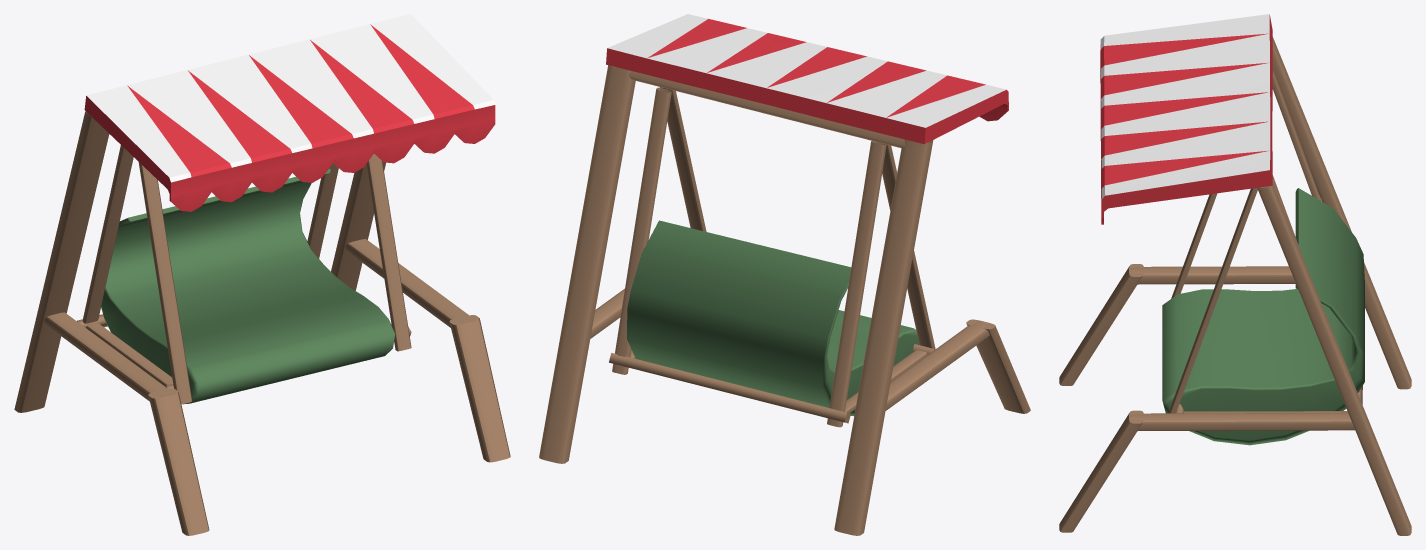
Rendered from SM_Swing2.fbx.
The picture shows the model from 3 angles, left to right: view 1: azimuth 30°, elevation 25°; view 2: azimuth 150°, elevation 25°; view 3: azimuth 270°, elevation 25°; orthographic projection.
Parts seen in each view (by area): view 1: SM_Swing2; view 2: SM_Swing2; view 3: SM_Swing2.
Boxes of the visible parts, x1,y1,x2,y2 form: SM_Swing2: (14, 14, 510, 535); SM_Swing2: (539, 14, 1030, 535); SM_Swing2: (1059, 14, 1411, 535).
Size of the model in its own units: 217 by 231 by 202.
